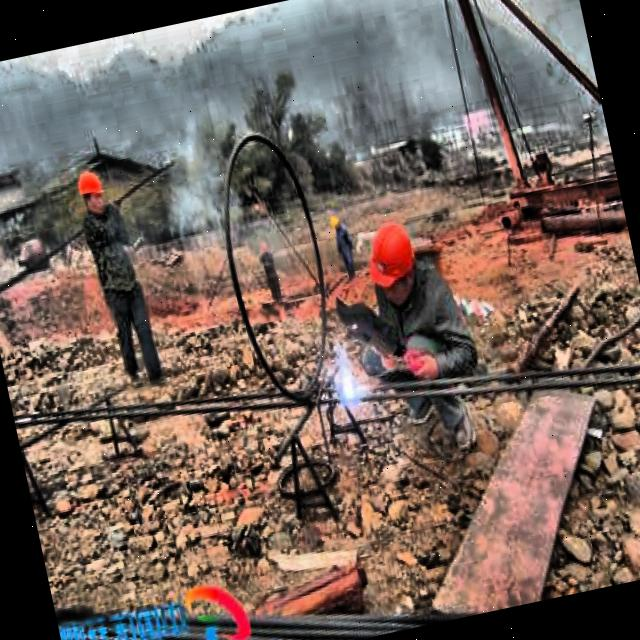helmet: (364, 217, 426, 300), (72, 163, 112, 224)
